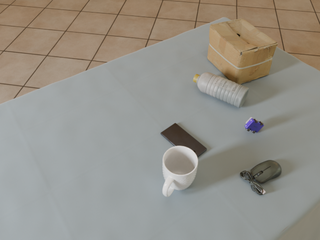bottle: (193, 72, 249, 108)
box: (207, 19, 278, 84)
cup: (163, 146, 198, 197)
mouse: (240, 160, 281, 195)
phone: (161, 123, 207, 157)
toy_car: (245, 117, 264, 133)
